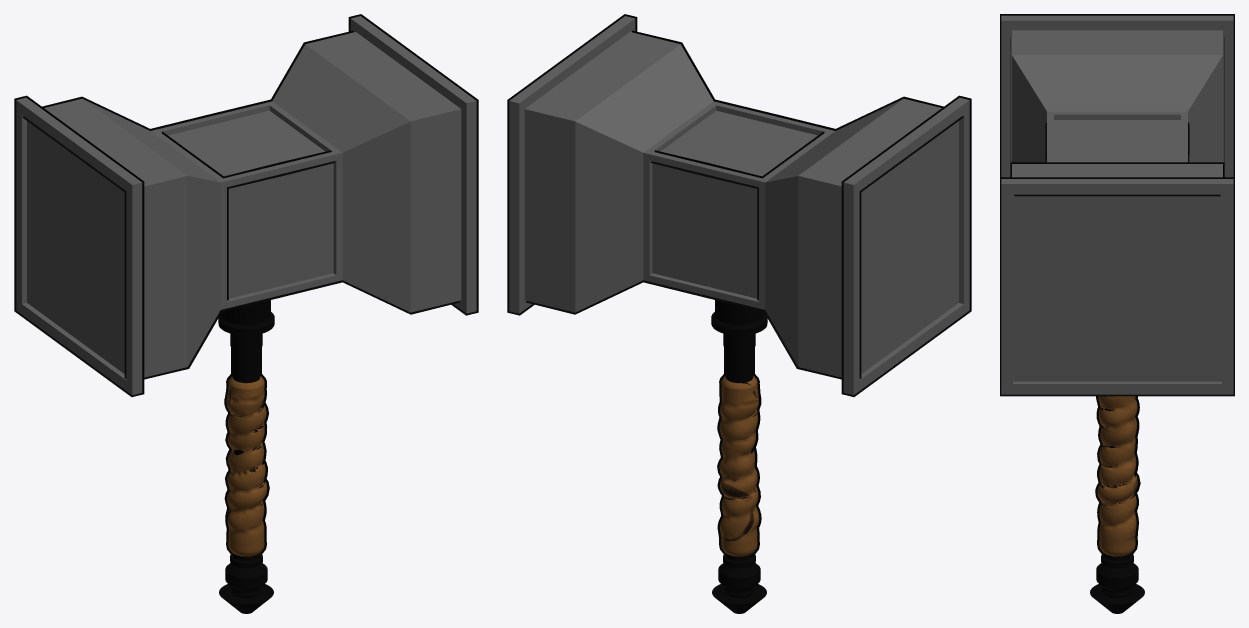
Rendered from weapon_1.fbx.
The picture shows the model from 3 angles, left to right: view 1: azimuth 30°, elevation 25°; view 2: azimuth 150°, elevation 25°; view 3: azimuth 270°, elevation 25°; orthographic projection.
Visible parts, largest first — view 1: head, handle_rope, handle; view 2: head, handle_rope, handle; view 3: head, handle_rope, handle.
Part boxes in pixels (left/top/right/bottom): head: left=14, top=14, right=478, bottom=396; handle_rope: left=224, top=374, right=269, bottom=558; handle: left=218, top=300, right=274, bottom=613; head: left=507, top=14, right=971, bottom=396; handle_rope: left=717, top=374, right=761, bottom=558; handle: left=711, top=300, right=767, bottom=613; head: left=1000, top=14, right=1234, bottom=396; handle_rope: left=1095, top=396, right=1140, bottom=557; handle: left=1090, top=445, right=1144, bottom=613.
Bounding box in the file's own units: 41.11 × 57.97 × 24.09.
